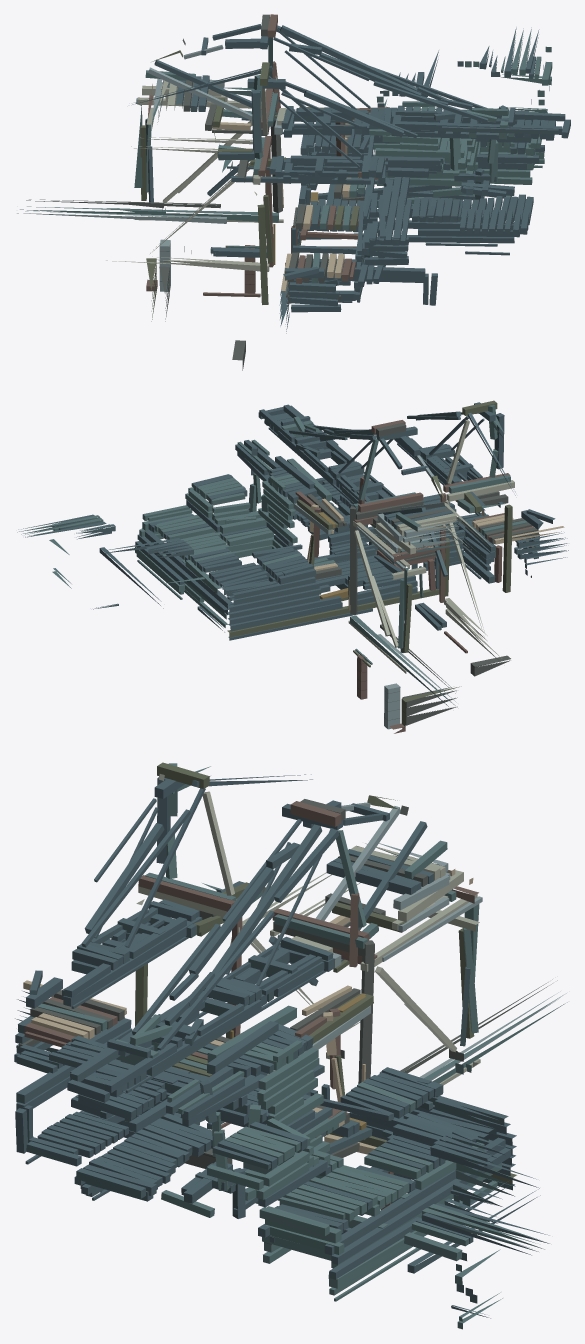
Rendered from terminal-1---138_-16.glb.
The picture shows the model from 3 angles, top to bottom: view 1: azimuth 30°, elevation 25°; view 2: azimuth 150°, elevation 25°; view 3: azimuth 270°, elevation 25°; orthographic projection. The views are drawn at different scales.
Parts seen in each view (by area): view 1: measured-industrial; view 2: measured-industrial; view 3: measured-industrial.
Part boxes in pixels (x1,y1,x2,y2): measured-industrial: (17,14,570,370); measured-industrial: (17,400,568,733); measured-industrial: (14,762,567,1329).
Bounding box in the file's own units: 155 × 83.13 × 103.
